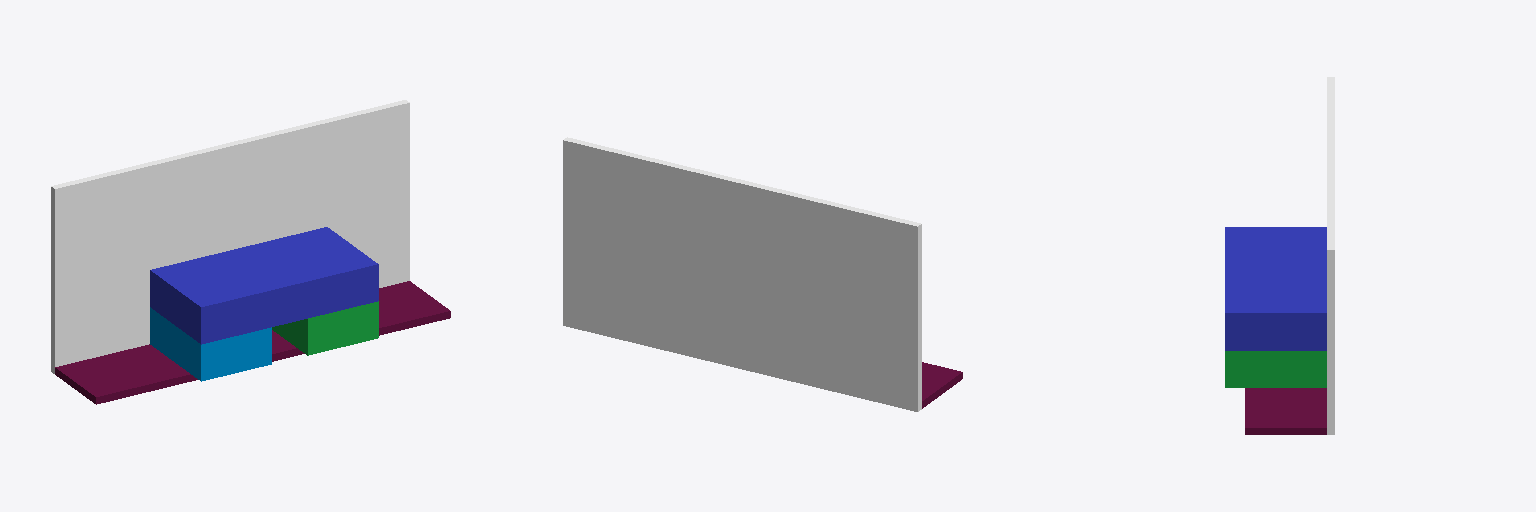
The model's file is boxes-shelf-2.obj.
3 renders of one model, left to right at view 1: azimuth 30°, elevation 25°; view 2: azimuth 150°, elevation 25°; view 3: azimuth 270°, elevation 25°, orthographic.
Visible parts, largest first — view 1: Object.2, Object.5, Object.1, Object.4, Object.3; view 2: Object.2, Object.1; view 3: Object.5, Object.1, Object.3, Object.2.
Boxes of the visible parts, box(x1,y1,x2,y2) form: Object.2: box(51, 100, 409, 373); Object.5: box(150, 227, 378, 344); Object.1: box(55, 281, 450, 404); Object.4: box(150, 307, 271, 381); Object.3: box(272, 301, 378, 355); Object.2: box(563, 137, 921, 411); Object.1: box(922, 362, 962, 408); Object.5: box(1225, 227, 1326, 350); Object.1: box(1245, 388, 1326, 434); Object.3: box(1225, 351, 1326, 387); Object.2: box(1327, 77, 1334, 434).
Bounding box in the file's own units: 1000 × 500 × 270.